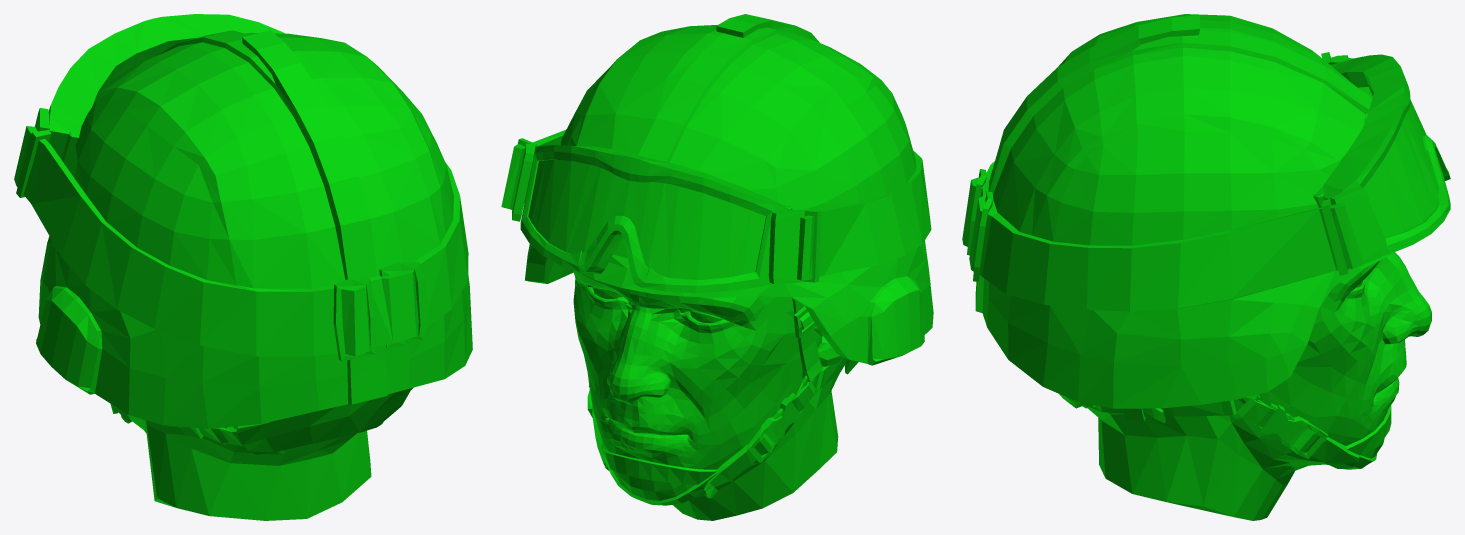
File: Head.fbx
3 views of the same model, side by side, from view 1: azimuth 30°, elevation 25°; view 2: azimuth 150°, elevation 25°; view 3: azimuth 270°, elevation 25° (orthographic). The views are drawn at different scales.
Parts seen in each view (by area): view 1: Cube.001; view 2: Cube.001; view 3: Cube.001.
Boxes of the visible parts, x1,y1,x2,y2 form: Cube.001: (14,14,472,520); Cube.001: (501,14,933,520); Cube.001: (962,14,1450,520).
Bounding box in the file's own units: 0.2722 × 0.3378 × 0.3054.
